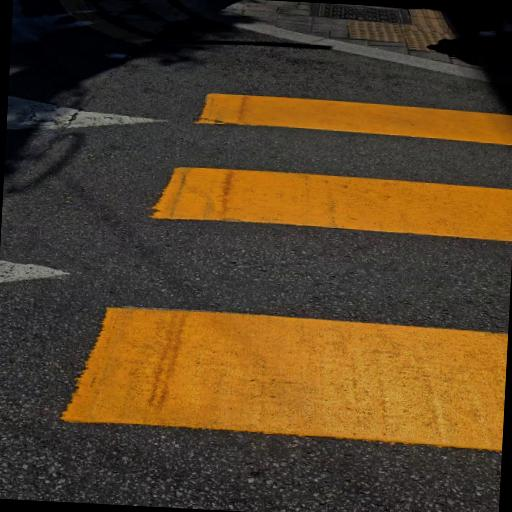yellow-crosswalk: (0, 54, 512, 484)
